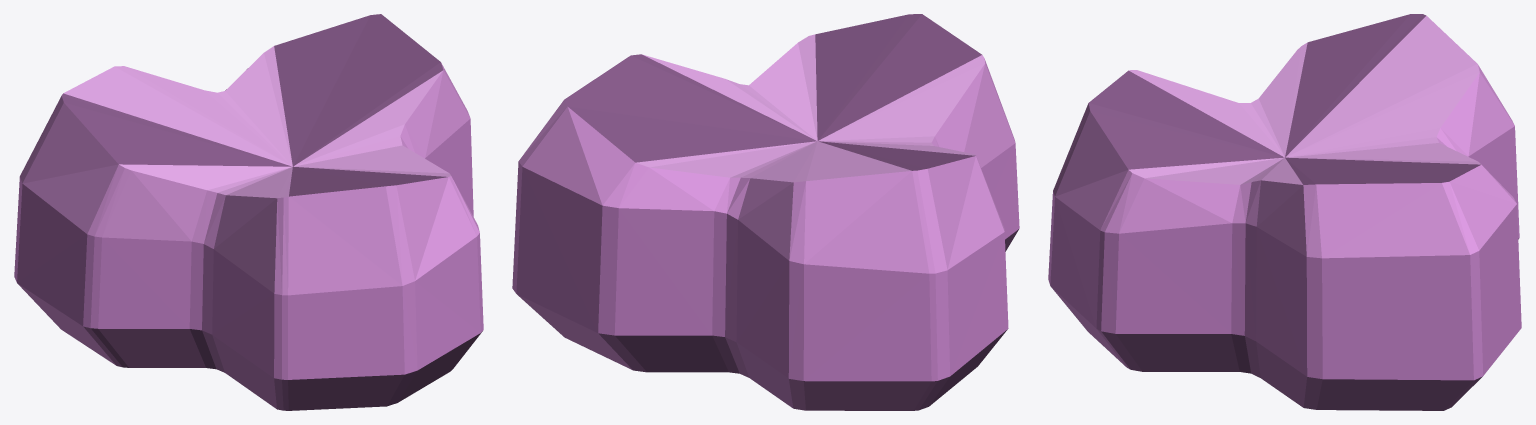
File: amethyst_deposit_icon.fbx
3 views of the same model, side by side, from view 1: azimuth 30°, elevation 25°; view 2: azimuth 150°, elevation 25°; view 3: azimuth 270°, elevation 25° (orthographic). The views are drawn at different scales.
Visible parts, largest first — view 1: amethyst_deposit_icon_body; view 2: amethyst_deposit_icon_body; view 3: amethyst_deposit_icon_body.
Boxes of the visible parts, x1,y1,x2,y2 form: amethyst_deposit_icon_body: [14, 14, 483, 410]; amethyst_deposit_icon_body: [512, 14, 1019, 410]; amethyst_deposit_icon_body: [1048, 14, 1521, 410].
Bounding box in the file's own units: 3.98 × 2.17 × 4.
Materials: 1 (1 with a texture image).
